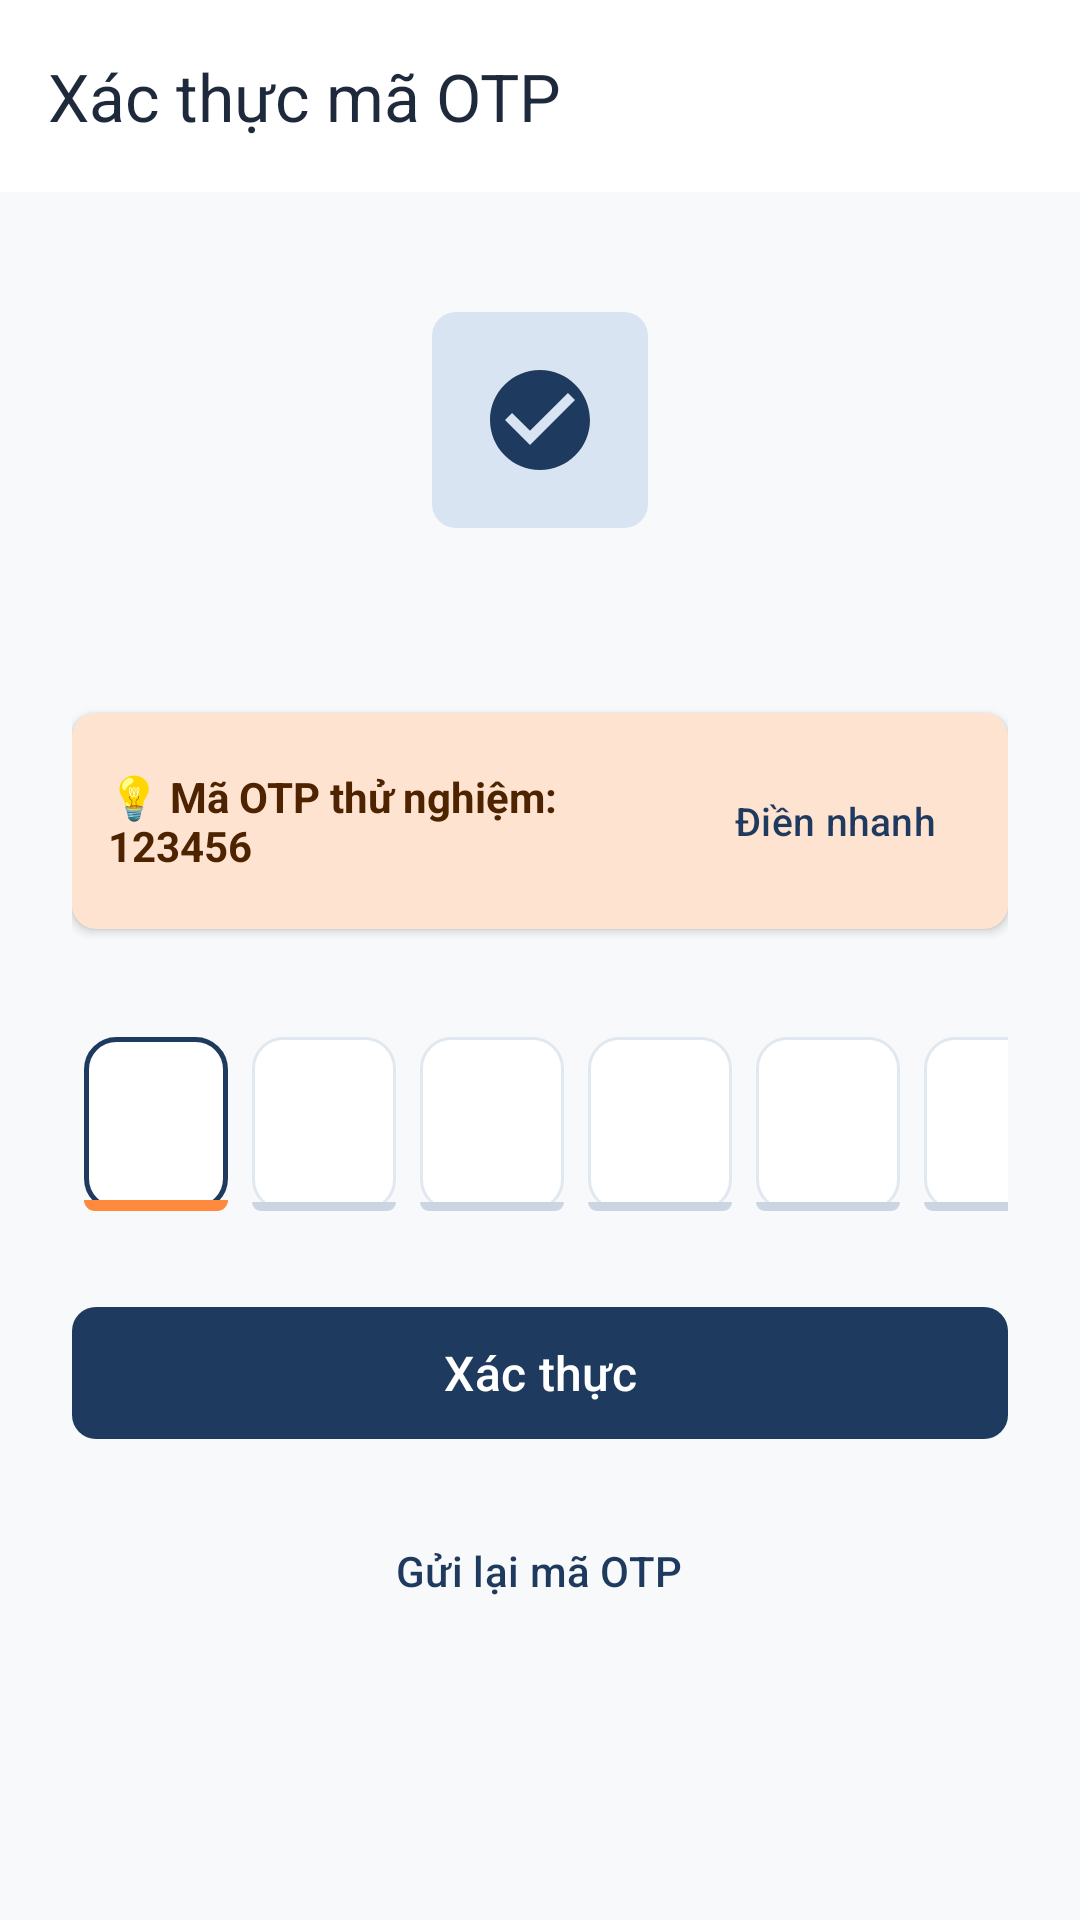

Locate icon controls on the screen. Image size 1080px×1920px, boxes as (x1, y1, x2, y2).
Xác thực mã OTP: (432, 312, 648, 528)
